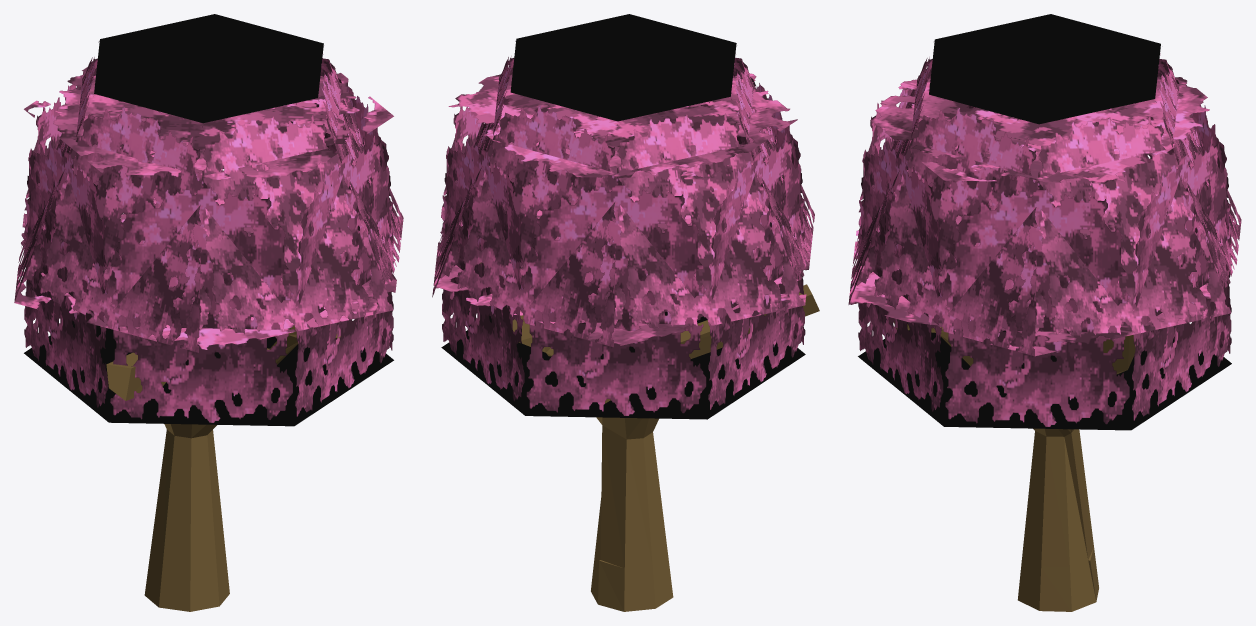
File: sakura_tree1.obj
The picture shows the model from 3 angles, left to right: view 1: azimuth 30°, elevation 25°; view 2: azimuth 150°, elevation 25°; view 3: azimuth 270°, elevation 25°; orthographic projection. The views are drawn at different scales.
Visible parts, largest first — view 1: Object.2, Object.1, Object.4, Object.3; view 2: Object.2, Object.1, Object.4, Object.3; view 3: Object.2, Object.1, Object.4, Object.3.
Part boxes in pixels (box(x1,y1,x2,y2)): Object.2: box(14, 14, 403, 352); Object.1: box(24, 58, 393, 426); Object.4: box(106, 325, 340, 568); Object.3: box(144, 552, 229, 611); Object.2: box(432, 14, 814, 347); Object.1: box(441, 73, 805, 419); Object.4: box(480, 262, 819, 568); Object.3: box(591, 550, 673, 611); Object.2: box(848, 14, 1241, 356); Object.1: box(858, 76, 1231, 430); Object.4: box(894, 321, 1135, 567); Object.3: box(1017, 547, 1098, 611).
Size of the model in its own units: 3.01 by 4 by 2.67.
